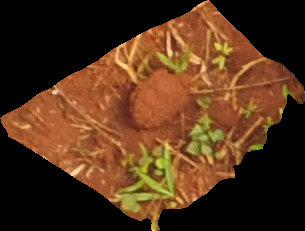soil: (3, 1, 304, 229)
